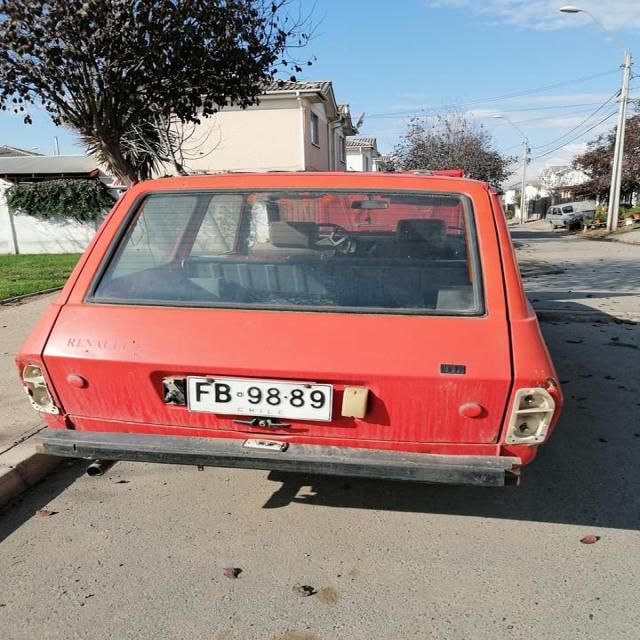patente: (184, 375, 333, 421)
